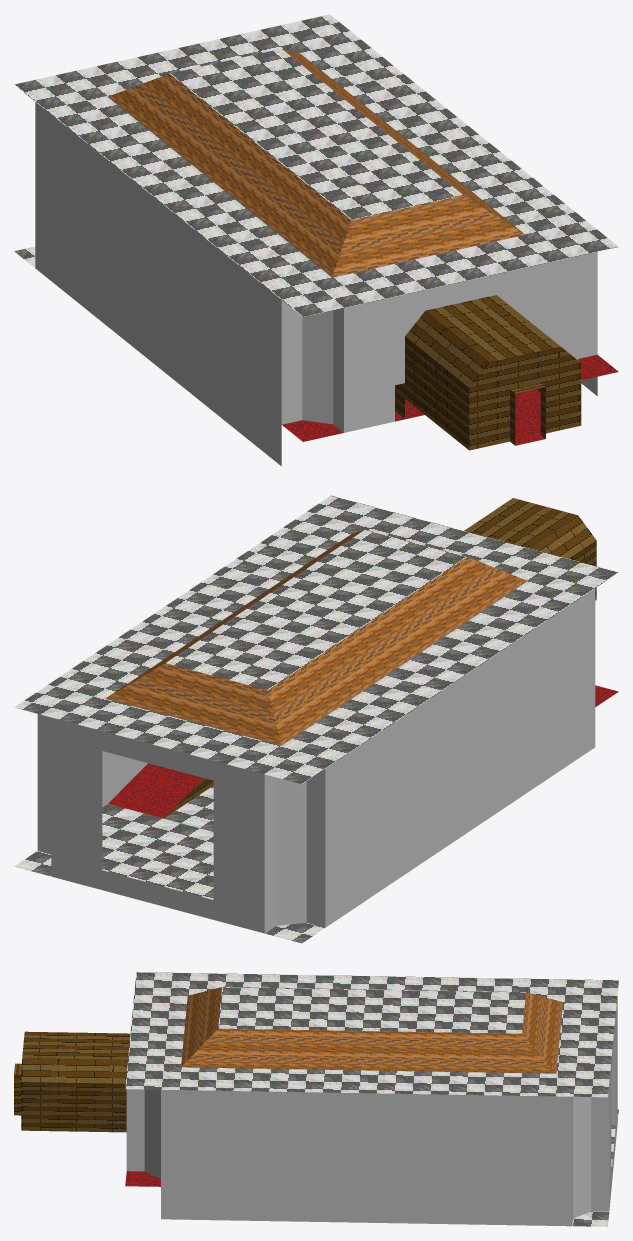
The model's file is whomp's-fortress.fbx.
3 renders of one model, top to bottom at view 1: azimuth 30°, elevation 25°; view 2: azimuth 150°, elevation 25°; view 3: azimuth 270°, elevation 25°, orthographic. The views are drawn at different scales.
Visible parts, largest first — view 1: default; view 2: default; view 3: default.
Part boxes in pixels (box(x1,y1,x2,y2)): default: box(14, 14, 618, 465); default: box(14, 495, 618, 943); default: box(14, 972, 618, 1226).
Bounding box in the file's own units: 42.4 × 24.3 × 86.57.
